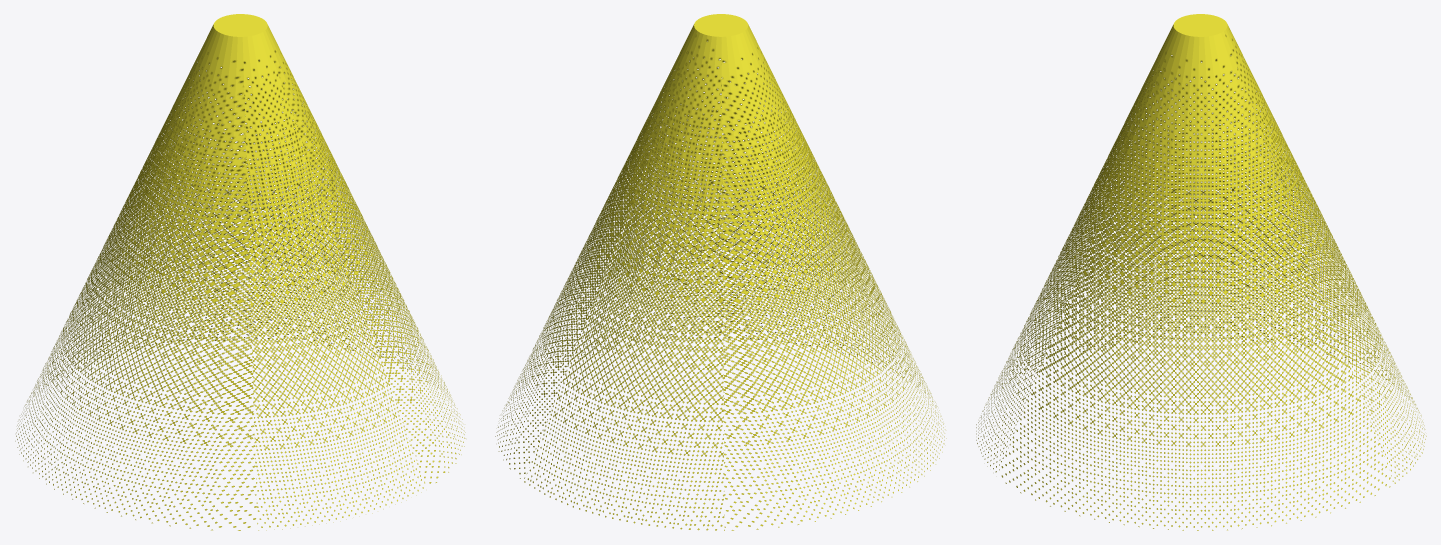
The model's file is light.fbx.
3 views of the same model, side by side, from view 1: azimuth 30°, elevation 25°; view 2: azimuth 150°, elevation 25°; view 3: azimuth 270°, elevation 25° (orthographic).
Visible parts, largest first — view 1: Cone; view 2: Cone; view 3: Cone.
Boxes of the visible parts, x1=… form: Cone: x1=15, y1=14, x2=465, y2=530; Cone: x1=495, y1=14, x2=946, y2=530; Cone: x1=976, y1=14, x2=1426, y2=530.
Bounding box in the file's own units: 200 × 200 × 200.
